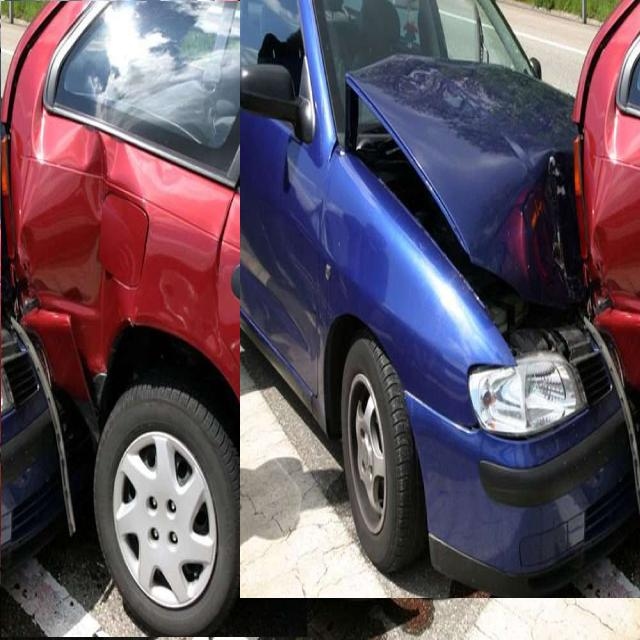accident: (240, 0, 640, 598), (1, 1, 306, 637)
